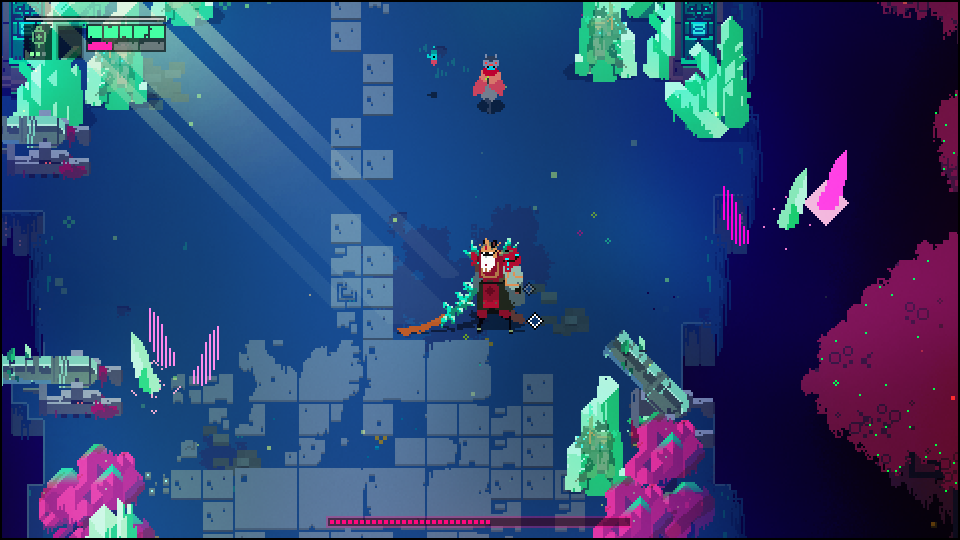hanged_crys: (190, 322, 223, 390), (148, 302, 181, 370), (126, 329, 159, 397), (716, 185, 749, 253), (776, 167, 809, 235), (815, 148, 848, 216)
hanged_man: (430, 228, 537, 348)
player: (471, 53, 510, 117)
